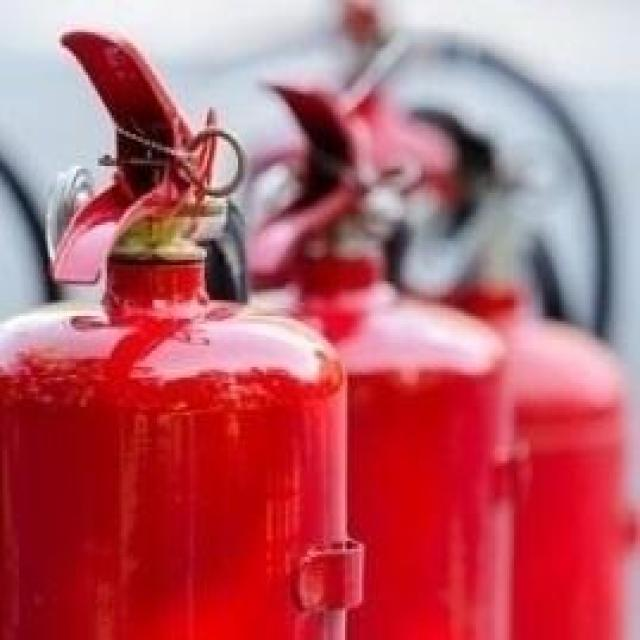fire_extinguisher: (0, 16, 374, 637), (160, 70, 524, 637)
